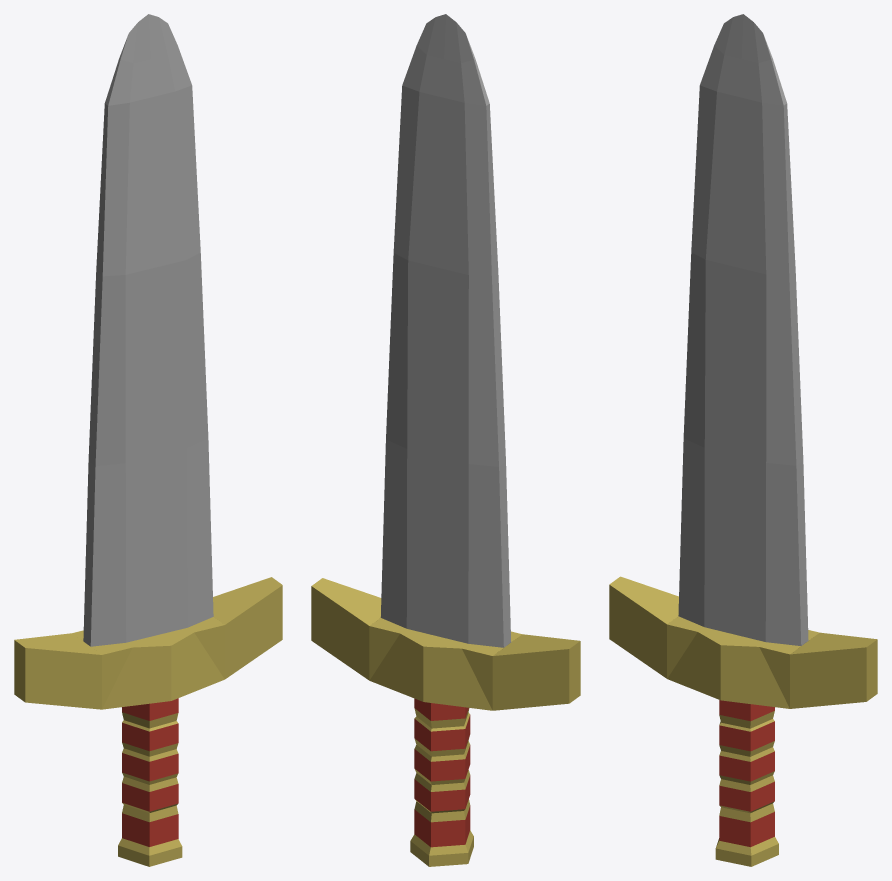
Rendered from sword_1.fbx.
3 renders of one model, left to right at view 1: azimuth 30°, elevation 25°; view 2: azimuth 150°, elevation 25°; view 3: azimuth 330°, elevation 25°, orthographic.
Visible parts, largest first — view 1: Cube.001; view 2: Cube.001; view 3: Cube.001.
Boxes of the visible parts, box(x1,y1,x2,y2) form: Cube.001: box(14, 14, 282, 866); Cube.001: box(311, 14, 580, 866); Cube.001: box(609, 14, 877, 866).
Bounding box in the file's own units: 1.28 × 3.99 × 0.3905.
